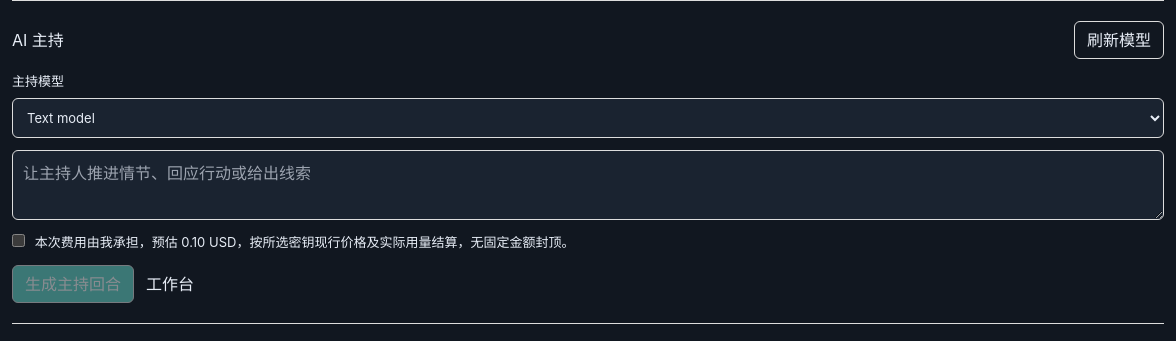
it: tavern owner AI turn › does not claim a room turn was written when persistence failed
The image size is (1176, 341).
Click the checkbox labelled "本次费用由我承担，预估 0.10 USD，按所选密钥现行价格及实际用量结算，无固定金额封顶。": {"x": 18, "y": 240} [12, 234, 25, 247]
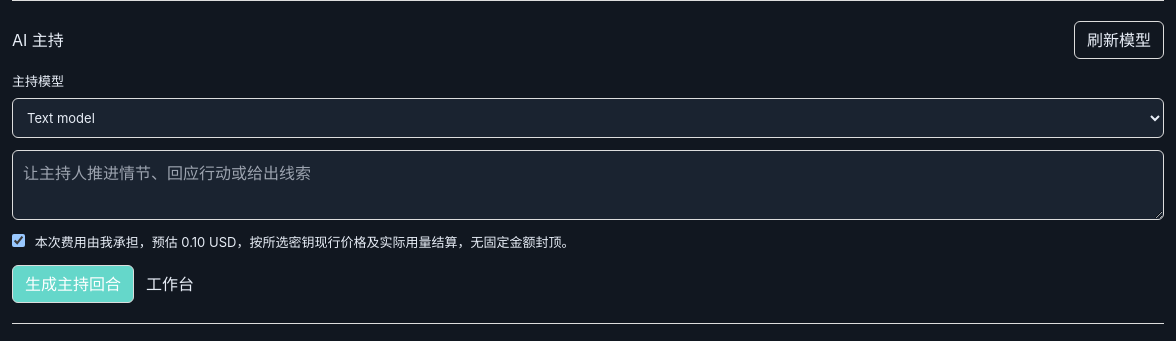
Click the button with class "ai-generate": {"x": 73, "y": 284} [12, 265, 134, 303]
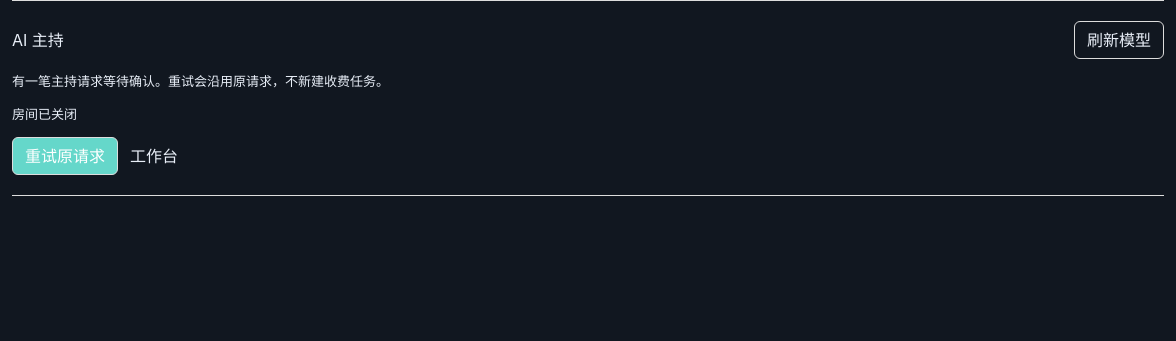
Now the text "房间已关闭" is shown, box [12, 106, 77, 122]
Now the button with class "ai-generate" shows "重试", box [12, 137, 118, 175]
